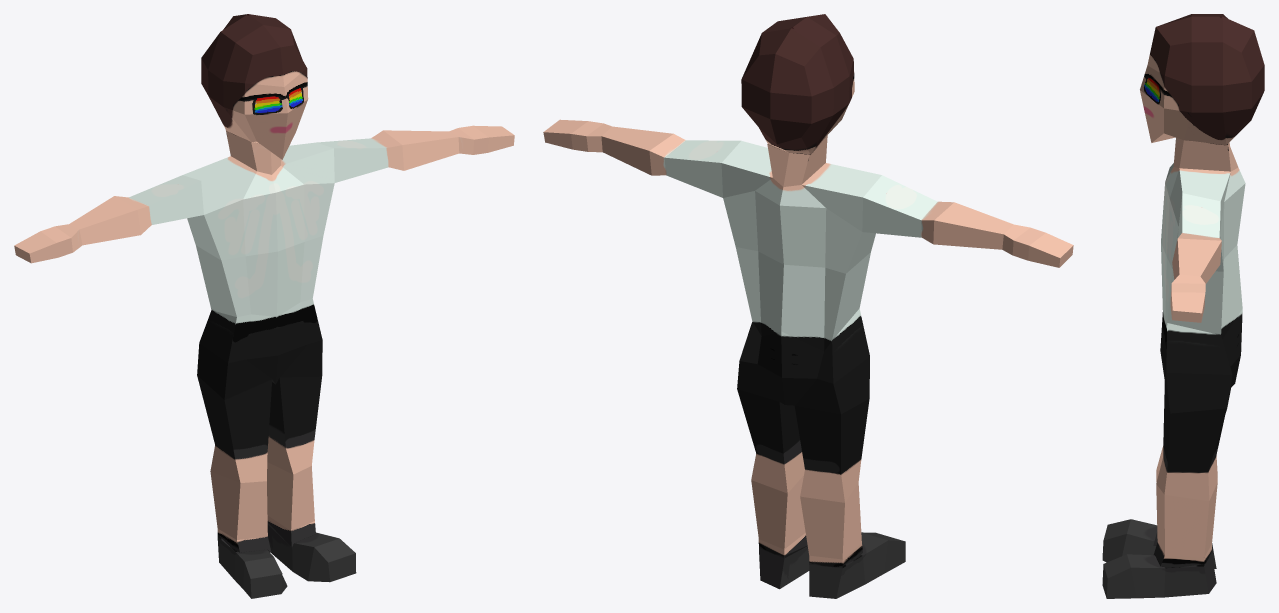
File: alexmodel.fbx
3 renders of one model, left to right at view 1: azimuth 30°, elevation 25°; view 2: azimuth 150°, elevation 25°; view 3: azimuth 270°, elevation 25°, orthographic. The views are drawn at different scales.
Visible parts, largest first — view 1: Player; view 2: Player; view 3: Player.
Part boxes in pixels (x1,y1,x2,y2): Player: (14,14,514,598); Player: (543,14,1073,598); Player: (1102,14,1264,598).
Bounding box in the file's own units: 1255 × 1315 × 345.
1 material, 1 textured.
